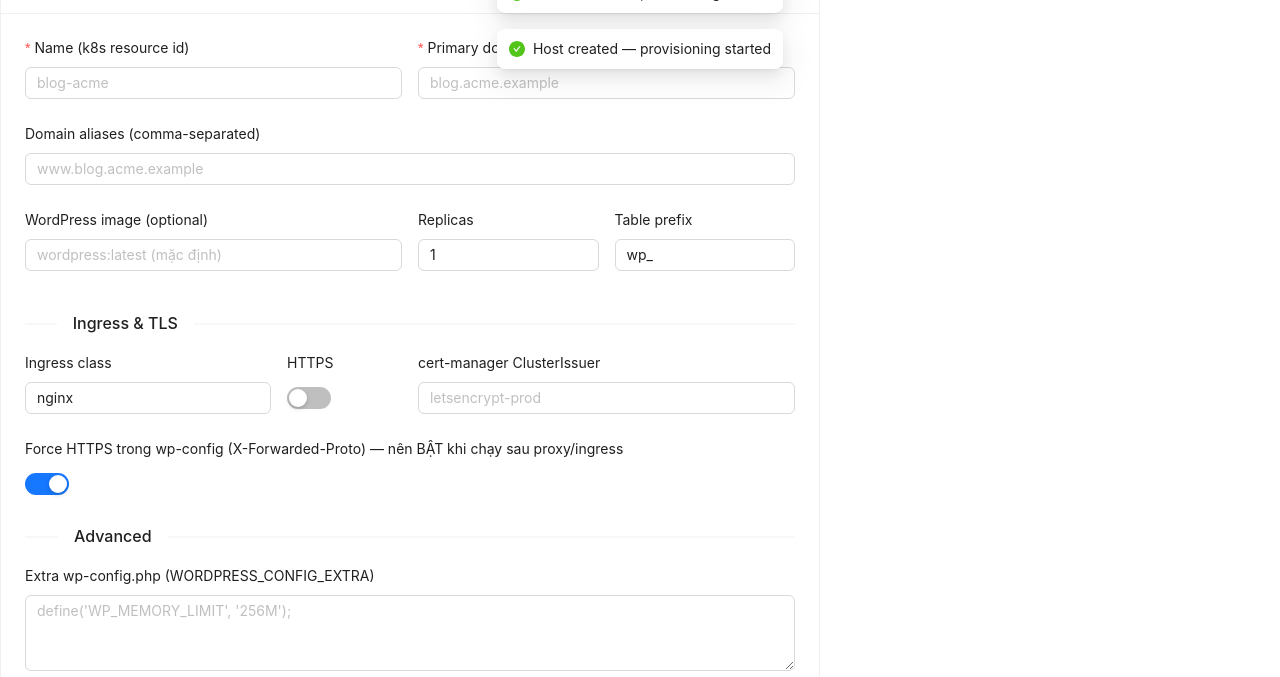
CreateSite page › requests a YAML preview
The width and height of the screenshot is (1280, 677).
Type "shop-foo" into the field labelled "Name (k8s resource id)" at point(214, 83), box [25,67,402,99]
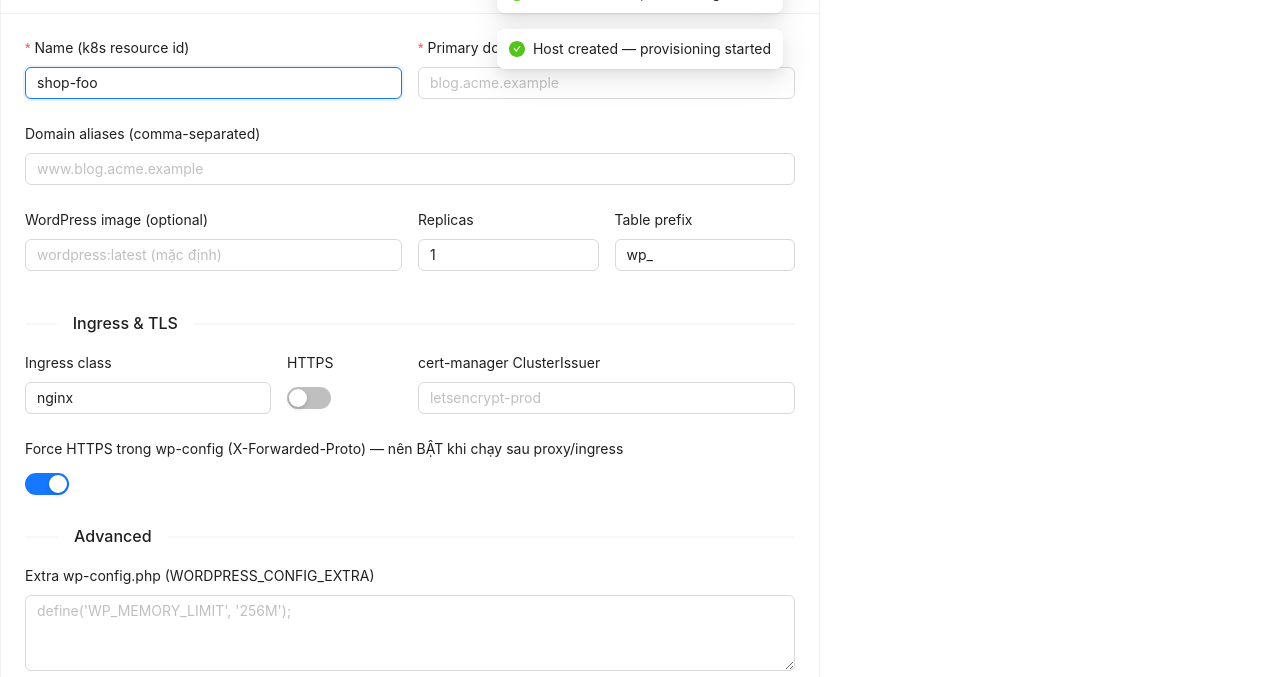
Type "shop.foo.example" into the field labelled "Primary domain" at point(606, 83), box [418,67,795,99]
(page scrolled)
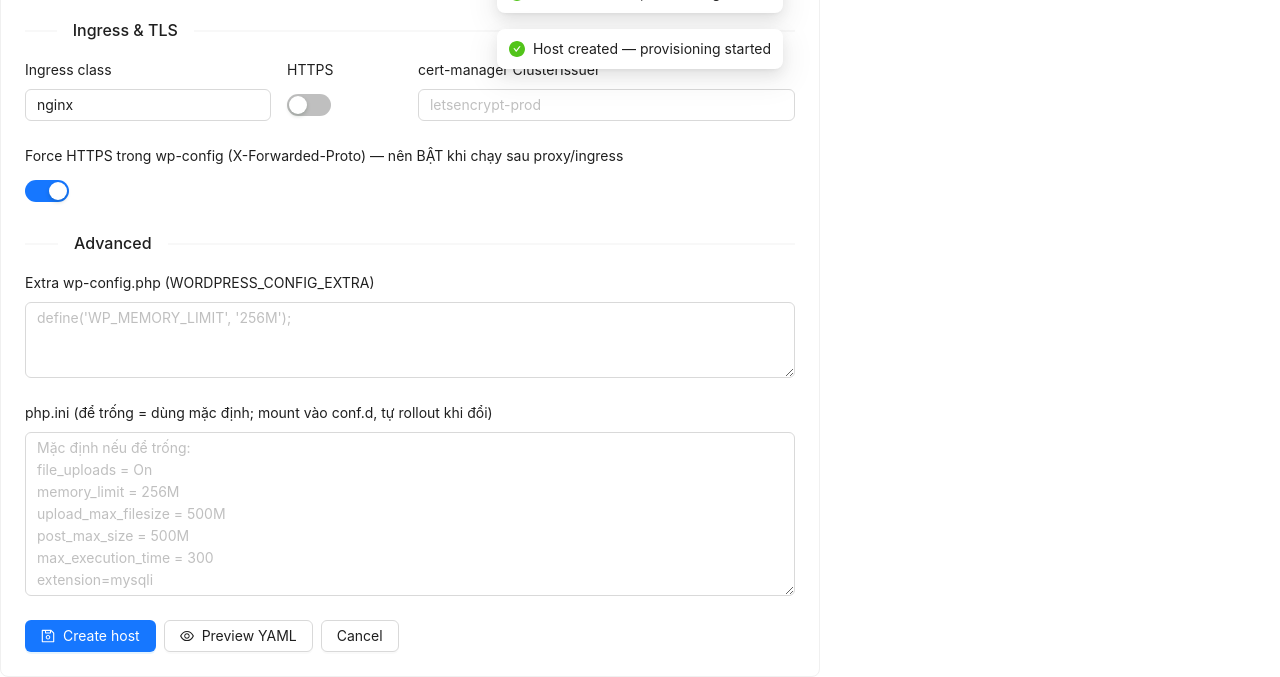
Click the button "Preview YAML" at point(238, 636), box [164,620,313,652]
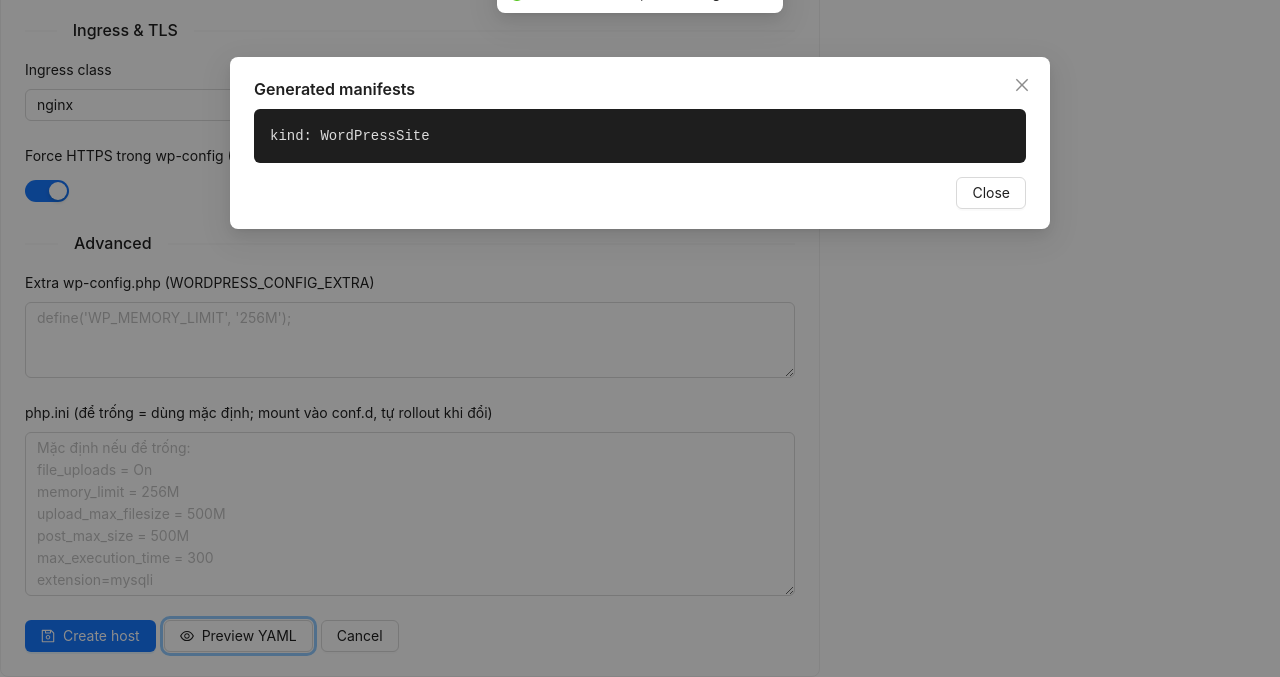
Expected: the text "kind: WordPressSite" is shown, [254,109,1026,163]
